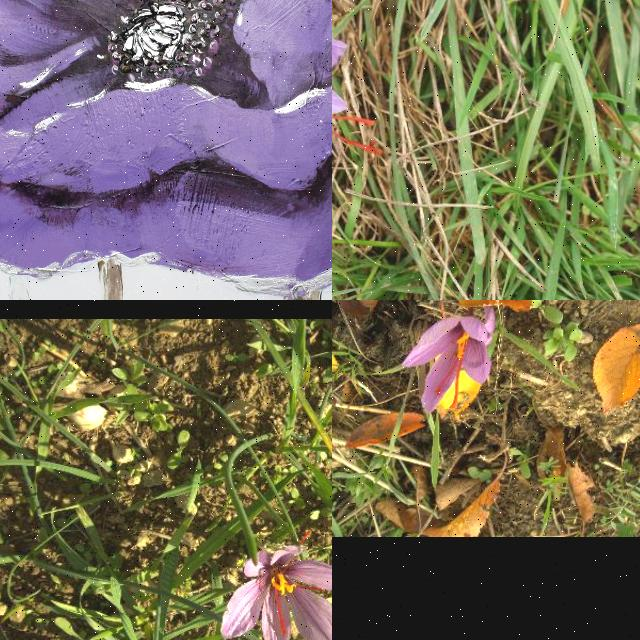flower: (221, 531, 332, 640), (402, 308, 496, 414), (332, 37, 383, 177)
